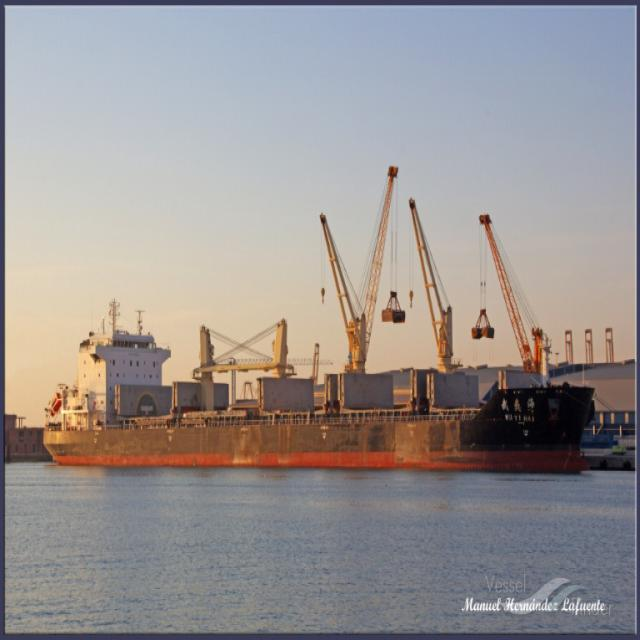OCR: (497, 406, 536, 422)
